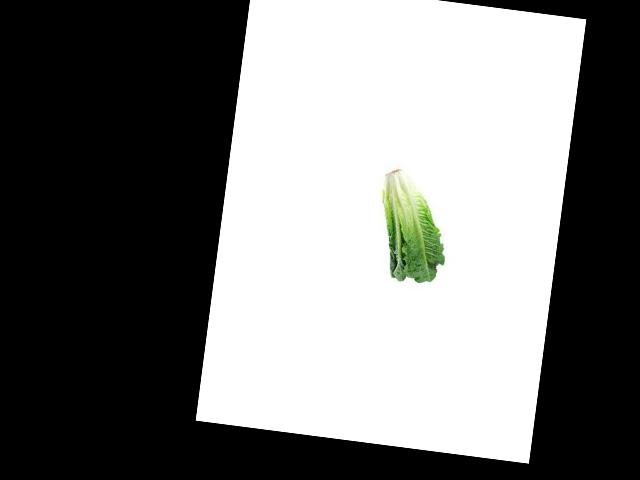lettuce: (377, 194, 483, 313)
